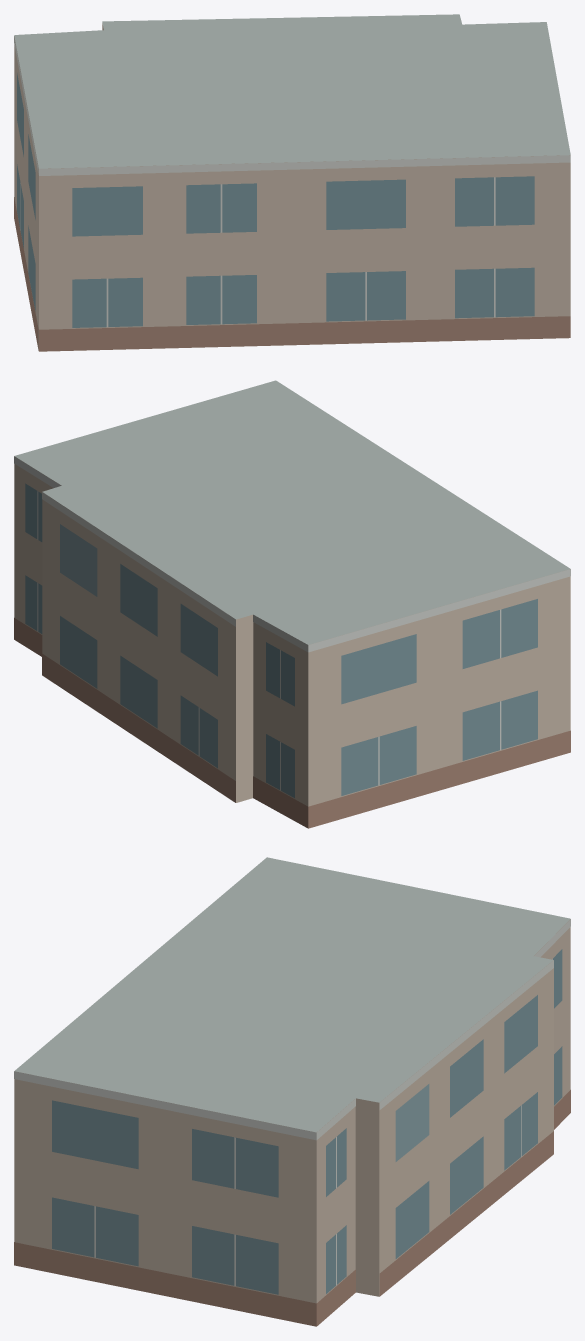
Rendered from survey-upis-32893087.glb.
3 views of the same model, one above another, from view 1: azimuth 30°, elevation 25°; view 2: azimuth 150°, elevation 25°; view 3: azimuth 270°, elevation 25° (orthographic). The views are drawn at different scales.
Parts seen in each view (by area): view 1: survey-upis-32893087.tmp; view 2: survey-upis-32893087.tmp; view 3: survey-upis-32893087.tmp.
Part boxes in pixels (left/top/right/bottom): survey-upis-32893087.tmp: left=14, top=14, right=570, bottom=351; survey-upis-32893087.tmp: left=14, top=380, right=570, bottom=828; survey-upis-32893087.tmp: left=14, top=857, right=570, bottom=1326.
Size of the model in its own units: 18.25 by 6 by 15.6.
